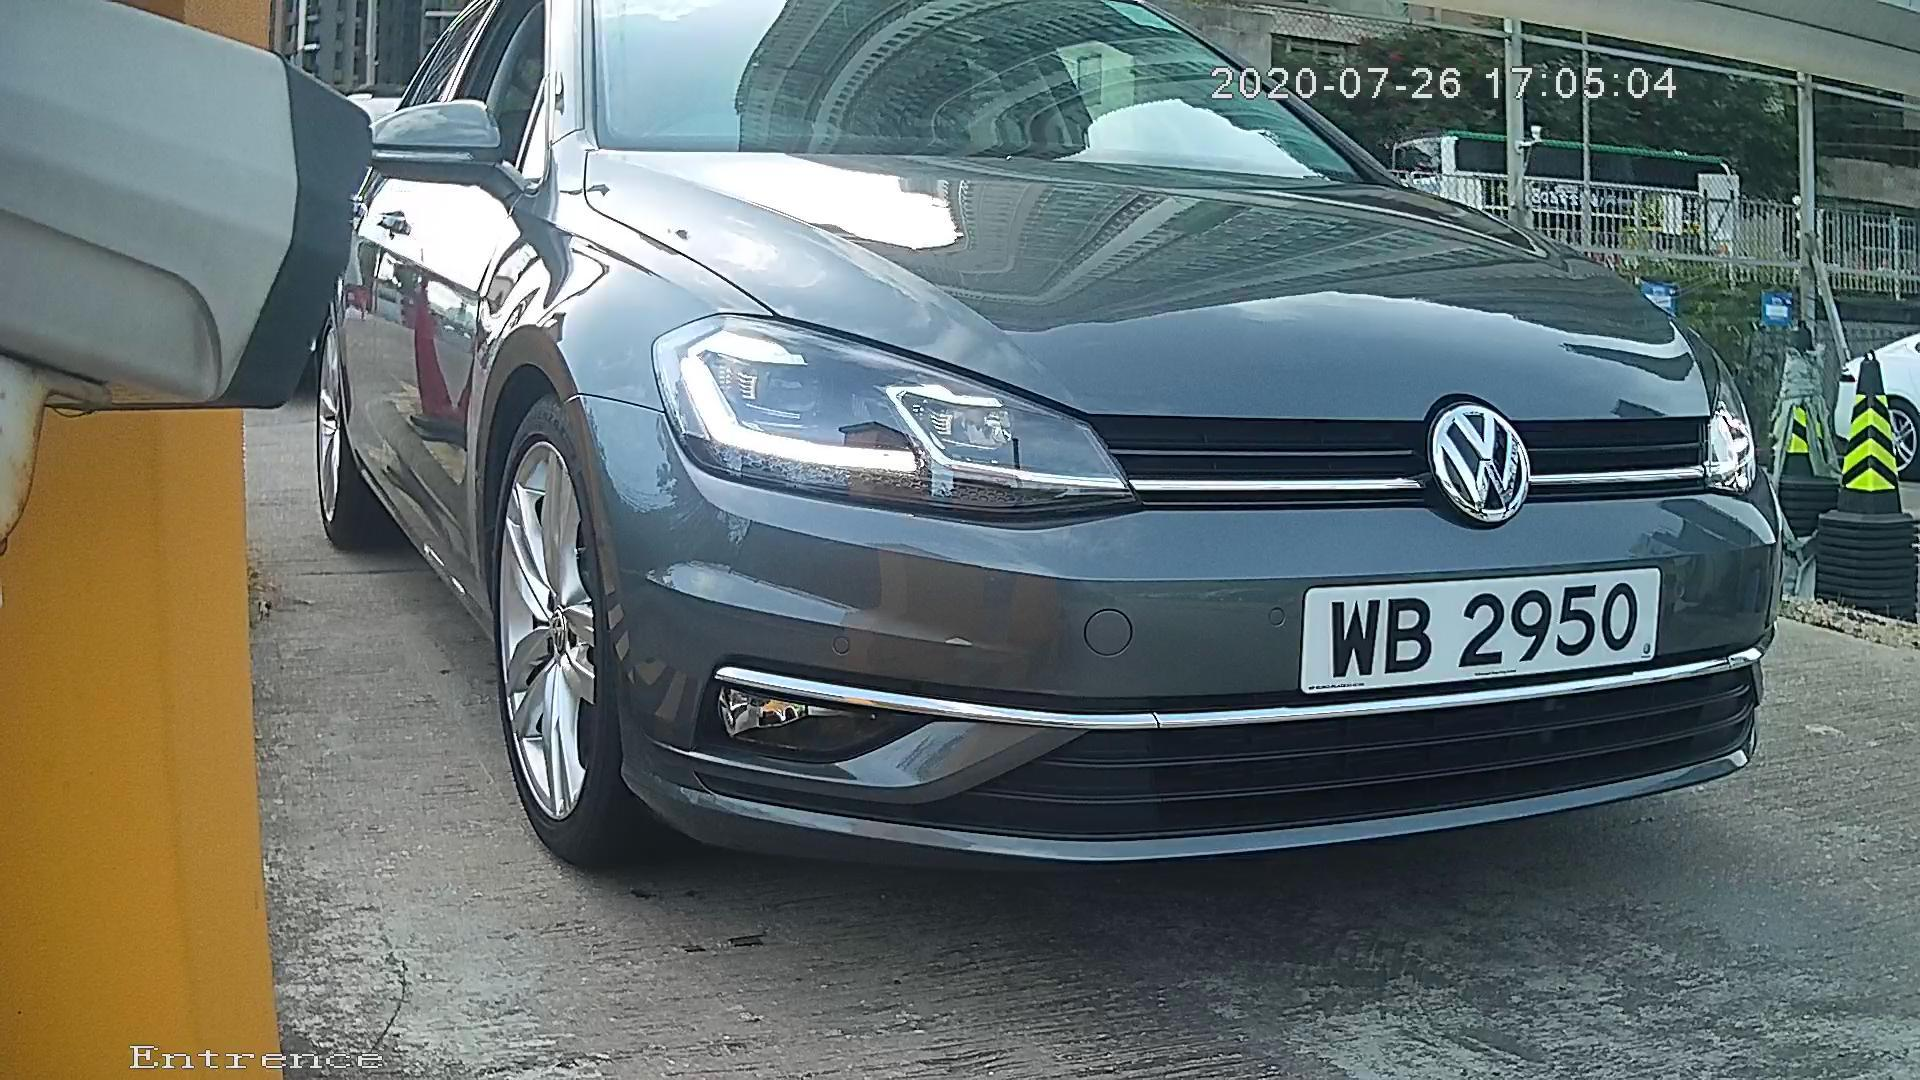privatecar: (206, 40, 1869, 916)
